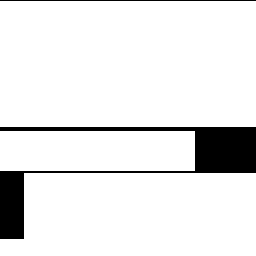rumex: (0, 1, 256, 126), (24, 173, 256, 256), (0, 131, 194, 170), (0, 239, 24, 256)
